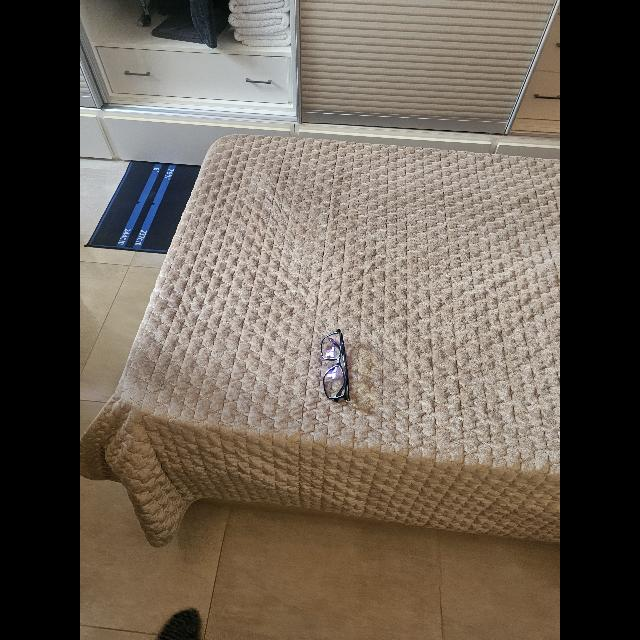glasses: (320, 330, 350, 402)
